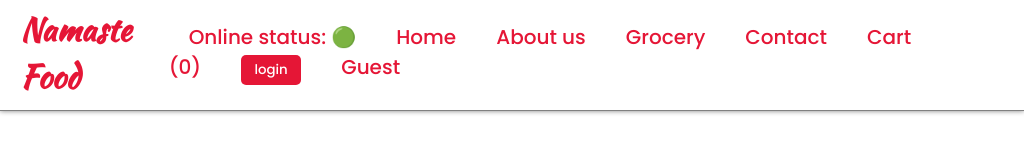
Test: should change login to logout on click
Click the button "login" at (271, 70), box [241, 54, 301, 84]
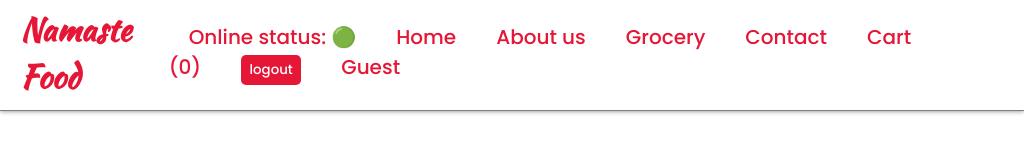
Expected: the button "logout" is shown, [241, 54, 301, 84]
